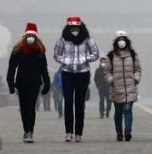person: (53, 15, 101, 142), (6, 22, 51, 144), (104, 30, 143, 142), (95, 56, 112, 120), (53, 66, 65, 119), (41, 95, 51, 112)
